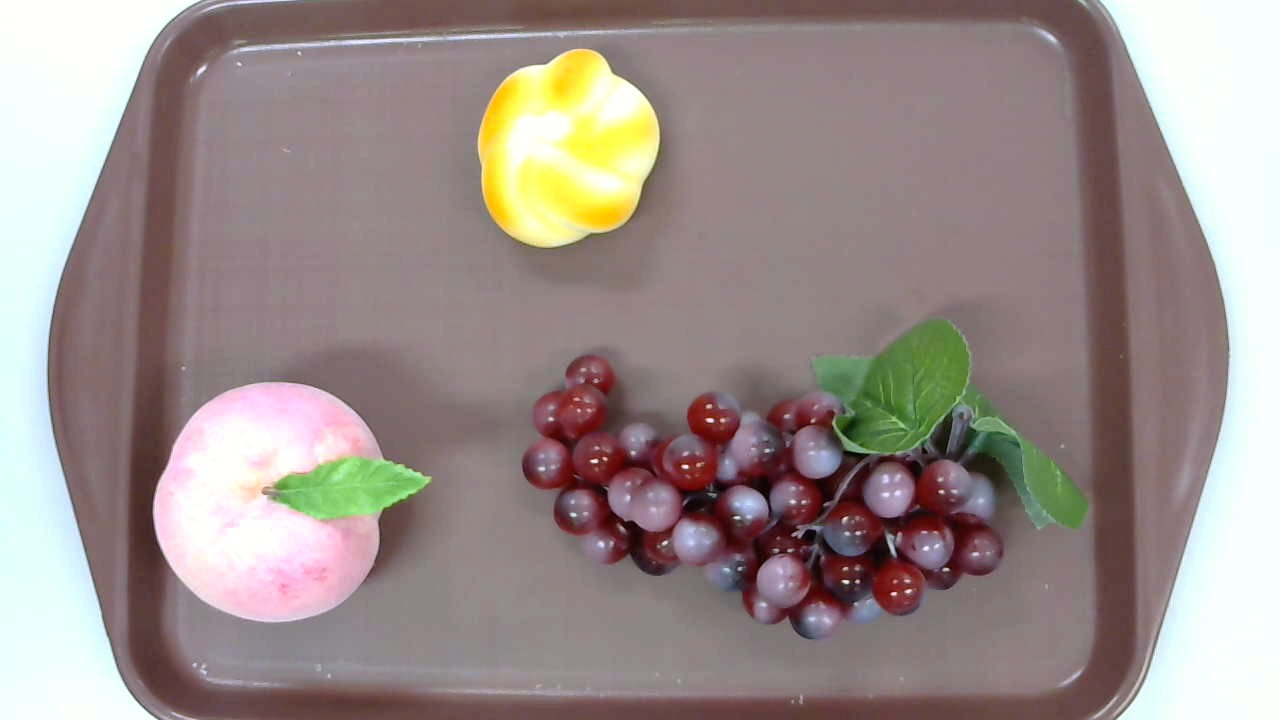grape: (519, 315, 1087, 641)
peaches: (153, 380, 430, 623)
twist bread: (478, 49, 661, 248)
